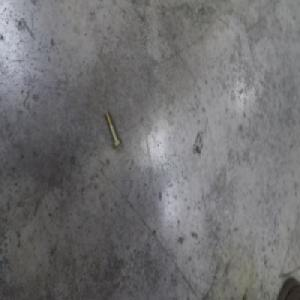Bolt: (103, 109, 121, 150)
